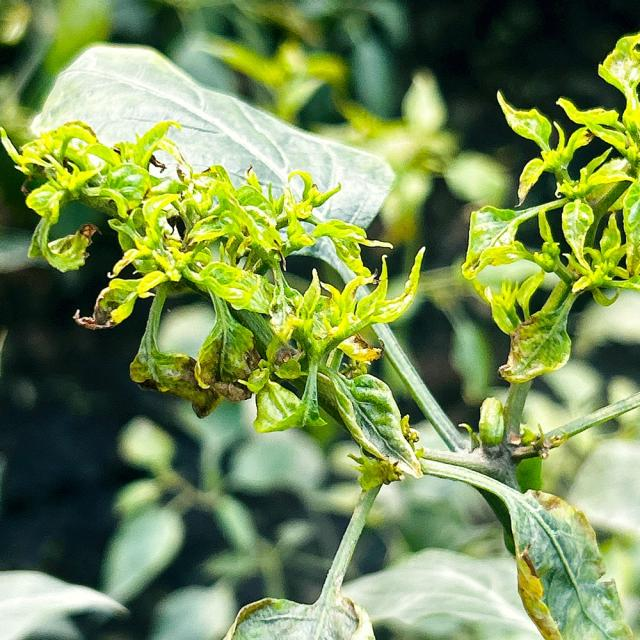Chilli_Leaf_Curl: (2, 31, 637, 637), (1, 113, 428, 485), (27, 41, 397, 238), (460, 31, 638, 384), (417, 450, 634, 638), (508, 488, 635, 638), (315, 366, 425, 488)
